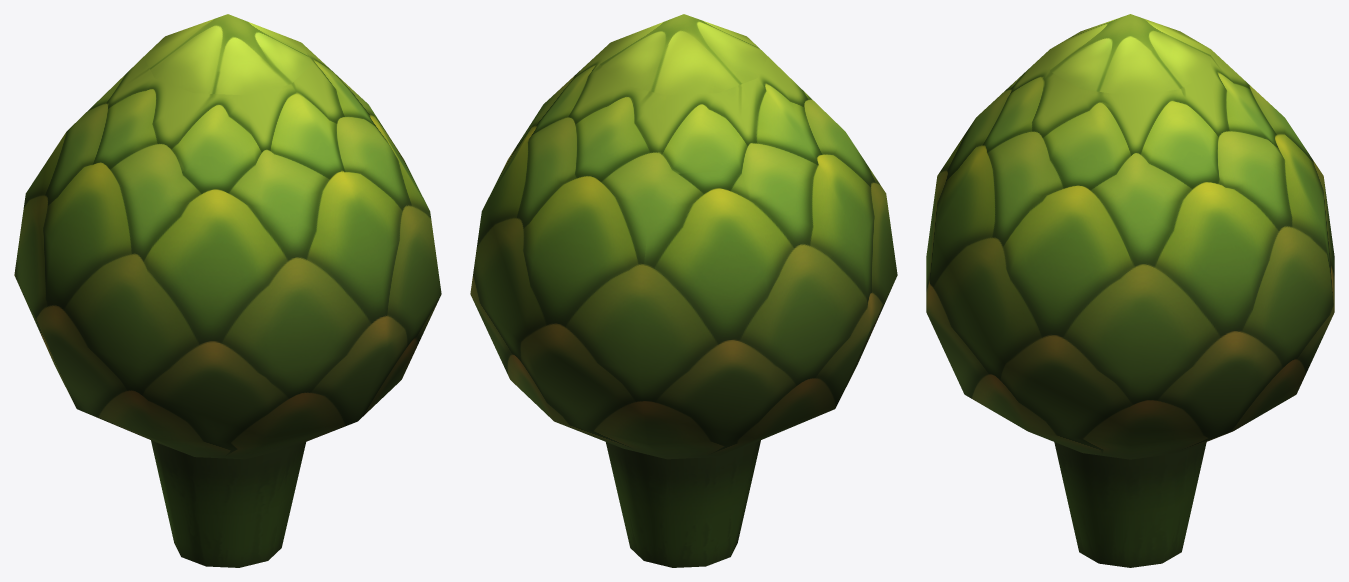
The model's file is Artichoke.fbx.
3 views of the same model, side by side, from view 1: azimuth 30°, elevation 25°; view 2: azimuth 150°, elevation 25°; view 3: azimuth 270°, elevation 25° (orthographic).
Parts seen in each view (by area): view 1: Artichoke; view 2: Artichoke; view 3: Artichoke.
Part boxes in pixels (x1,y1,x2,y2): Artichoke: (14, 14, 441, 567); Artichoke: (470, 14, 897, 567); Artichoke: (926, 14, 1334, 567).
Bounding box in the file's own units: 51.72 × 70.62 × 49.19.
